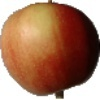apple: (1, 1, 100, 95)
